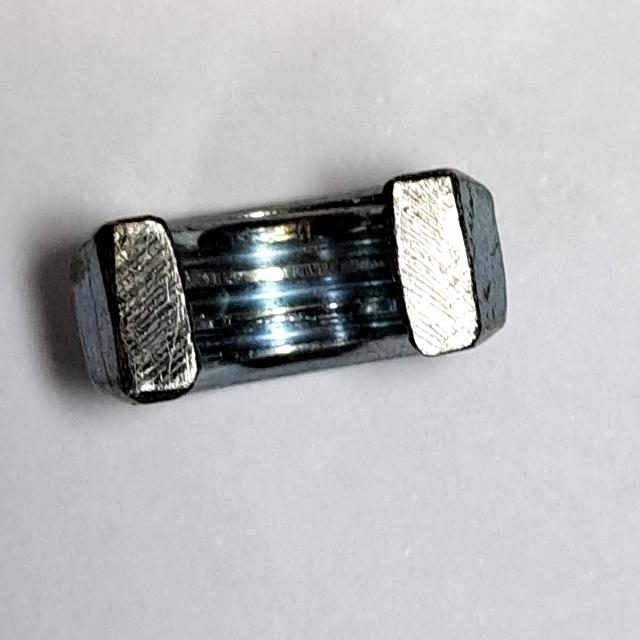Side-Fracture: (53, 139, 525, 421)
